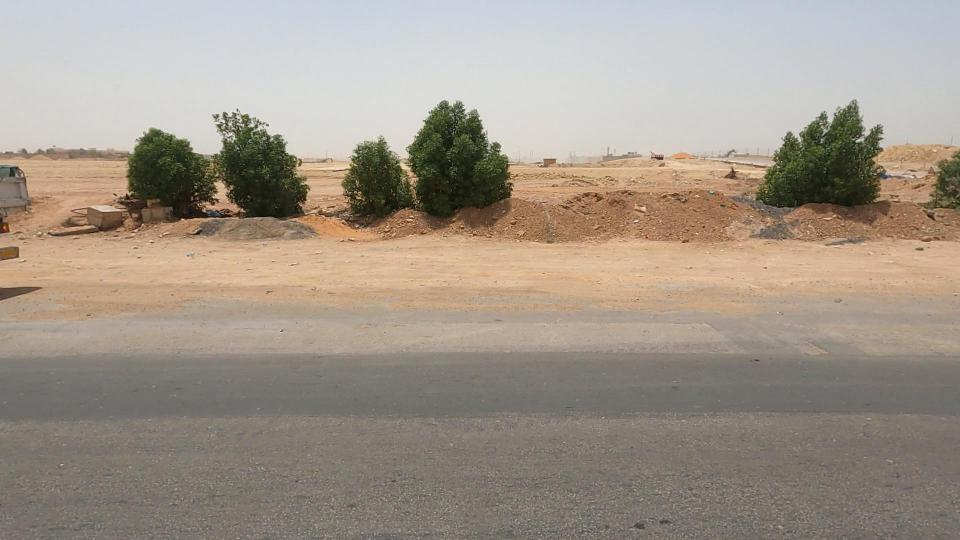GARBAGE: (9, 182, 176, 270)
SAND_ON_ROAD: (478, 142, 624, 263), (602, 164, 730, 255)
